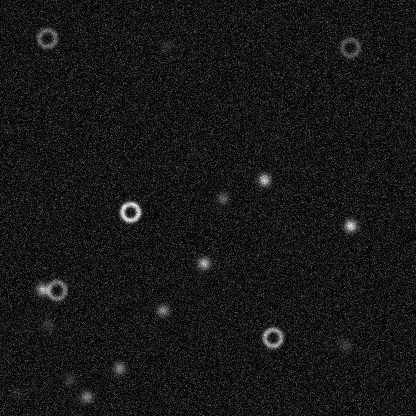Ring: (34, 26, 58, 50), (44, 278, 68, 302), (338, 35, 362, 59), (118, 199, 142, 223), (260, 325, 284, 349)
Spot: (158, 37, 174, 53), (7, 384, 23, 400), (255, 171, 271, 187), (39, 316, 55, 332), (214, 190, 230, 206), (337, 336, 353, 352), (34, 281, 50, 297), (154, 302, 170, 318), (342, 217, 358, 233), (195, 255, 211, 271), (61, 371, 77, 387), (78, 388, 94, 404), (110, 360, 126, 376)
